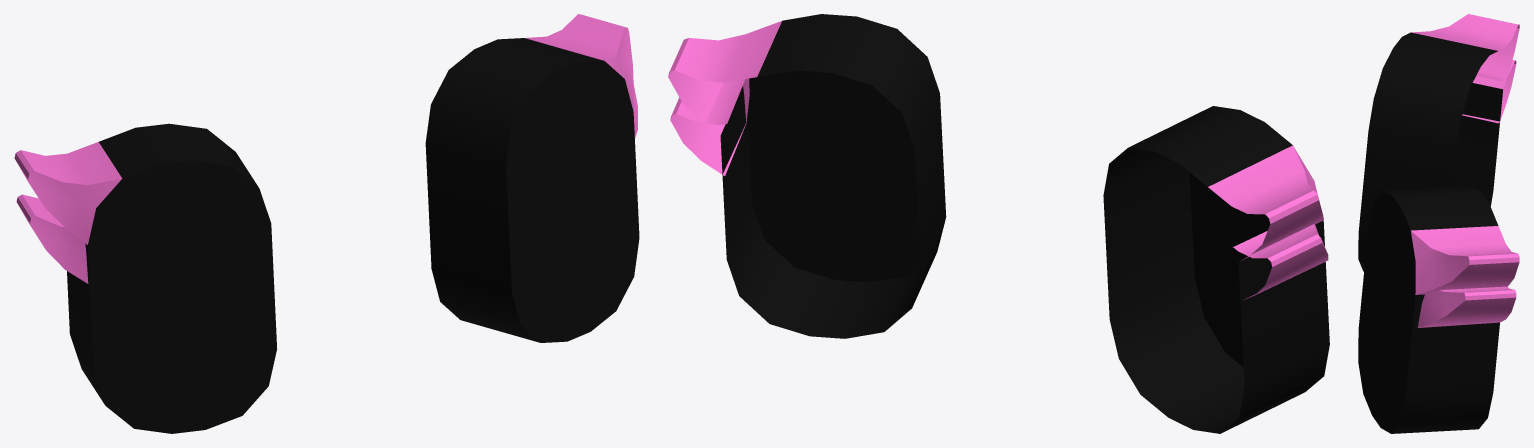
The model's file is Eyes_D_Female_01_C02.fbx.
3 views of the same model, side by side, from view 1: azimuth 30°, elevation 25°; view 2: azimuth 150°, elevation 25°; view 3: azimuth 270°, elevation 25° (orthographic). The views are drawn at different scales.
Visible parts, largest first — view 1: Eyes_D_Female_01_C02; view 2: Eyes_D_Female_01_C02; view 3: Eyes_D_Female_01_C02.
Part boxes in pixels (x1,y1,x2,y2): Eyes_D_Female_01_C02: [14, 14, 639, 433]; Eyes_D_Female_01_C02: [668, 14, 1329, 433]; Eyes_D_Female_01_C02: [1358, 14, 1519, 433].
Bounding box in the file's own units: 60.76 × 25.97 × 16.75.
